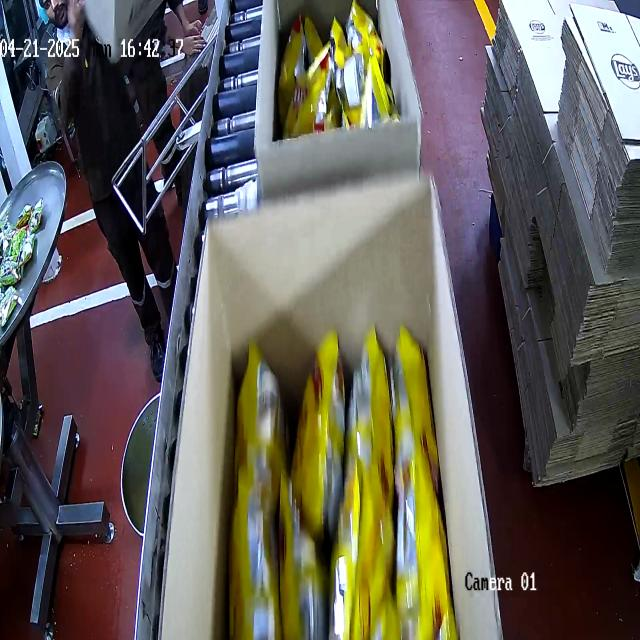SALTED: (229, 325, 447, 640), (276, 8, 396, 122)
